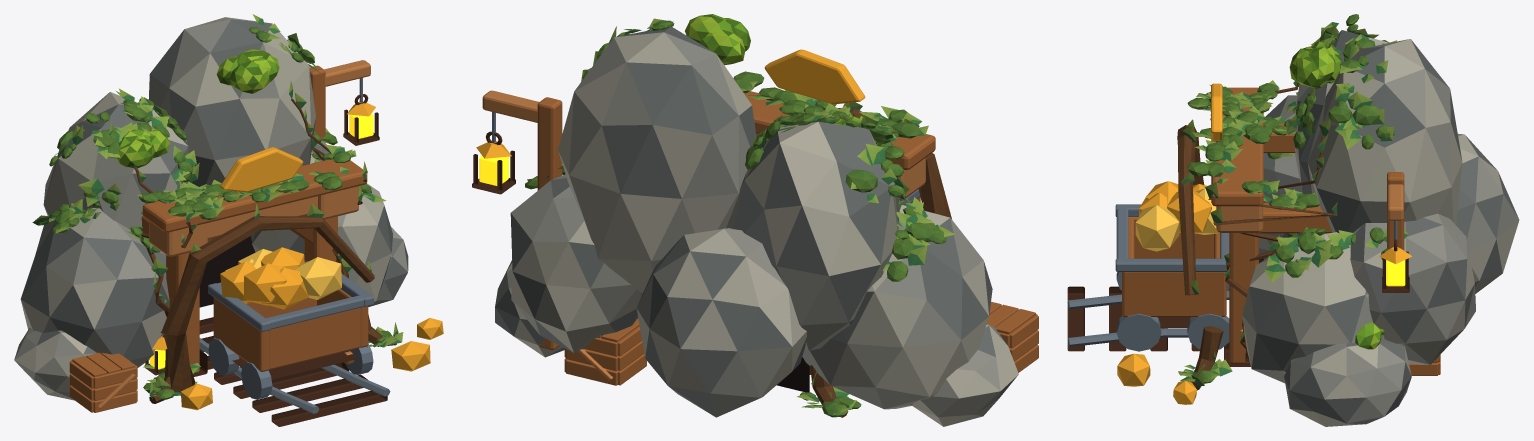
The model's file is gold_mine.glb.
The picture shows the model from 3 angles, left to right: view 1: azimuth 30°, elevation 25°; view 2: azimuth 150°, elevation 25°; view 3: azimuth 270°, elevation 25°; orthographic projection. The views are drawn at different scales.
Visible parts, largest first — view 1: Runtime surface 015, Runtime surface 003, Runtime surface 014, Runtime surface 013, Runtime surface 005, Runtime surface 018, Runtime surface 021, Runtime surface 006, Runtime surface 008, Runtime surface 020, Runtime surface 007, Runtime surface 019 (+6 smaller); view 2: Runtime surface 014, Runtime surface 015, Runtime surface 013, Runtime surface 003, Runtime surface 021, Runtime surface 005, Runtime surface 020, Runtime surface 007, Runtime surface 018, Runtime surface 019, Runtime surface 011, Runtime surface 008 (+4 smaller); view 3: Runtime surface 014, Runtime surface 015, Runtime surface 013, Runtime surface 003, Runtime surface 021, Runtime surface 006, Runtime surface 020, Runtime surface 018, Runtime surface 005, Runtime surface 019, Runtime surface 008, Runtime surface 004 (+5 smaller).
Part boxes in pixels (x1,y1,x2,y2): Runtime surface 015: (21, 19, 408, 397); Runtime surface 003: (69, 65, 368, 412); Runtime surface 014: (14, 17, 391, 394); Runtime surface 013: (14, 19, 407, 400); Runtime surface 005: (180, 101, 443, 410); Runtime surface 018: (134, 98, 396, 403); Runtime surface 021: (34, 27, 394, 399); Runtime surface 006: (199, 78, 390, 413); Runtime surface 008: (193, 94, 387, 426); Runtime surface 020: (33, 14, 403, 395); Runtime surface 007: (97, 60, 370, 408); Runtime surface 019: (32, 19, 401, 399); Runtime surface 014: (507, 32, 1018, 426); Runtime surface 015: (495, 27, 995, 417); Runtime surface 013: (495, 32, 1017, 426); Runtime surface 003: (537, 91, 1038, 385); Runtime surface 021: (525, 20, 946, 417); Runtime surface 005: (476, 49, 865, 158); Runtime surface 020: (527, 18, 954, 415); Runtime surface 007: (482, 90, 925, 380); Runtime surface 018: (810, 108, 951, 417); Runtime surface 019: (547, 21, 939, 415); Runtime surface 011: (685, 16, 878, 145); Runtime surface 008: (472, 131, 810, 374); Runtime surface 014: (1242, 37, 1519, 426); Runtime surface 015: (1249, 30, 1518, 424); Runtime surface 013: (1242, 39, 1518, 426); Runtime surface 003: (1122, 87, 1440, 375); Runtime surface 021: (1185, 14, 1394, 383); Runtime surface 006: (1067, 204, 1397, 351); Runtime surface 020: (1178, 22, 1408, 385); Runtime surface 018: (1177, 83, 1337, 390); Runtime surface 005: (1117, 83, 1412, 404); Runtime surface 019: (1179, 22, 1408, 386); Runtime surface 008: (1067, 239, 1409, 366); Runtime surface 004: (1135, 188, 1219, 251).
Size of the model in its own units: 4.56 by 3.28 by 4.15.
19 materials, 4 textured.
